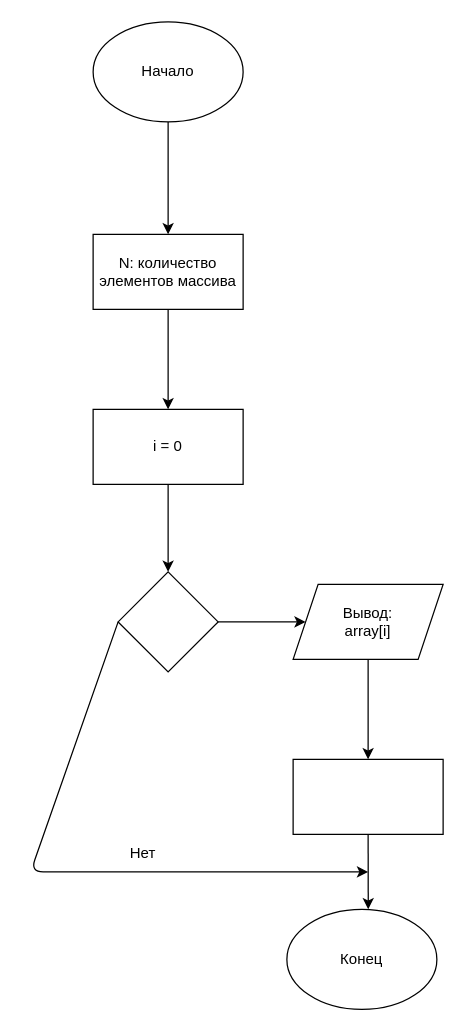
Image size: 465x1031. Some labels were removed from this diagram. Each missing label, with the box of its shape:
i <=N-1?: (117, 571, 218, 672)
i = i +1: (292, 758, 443, 834)
